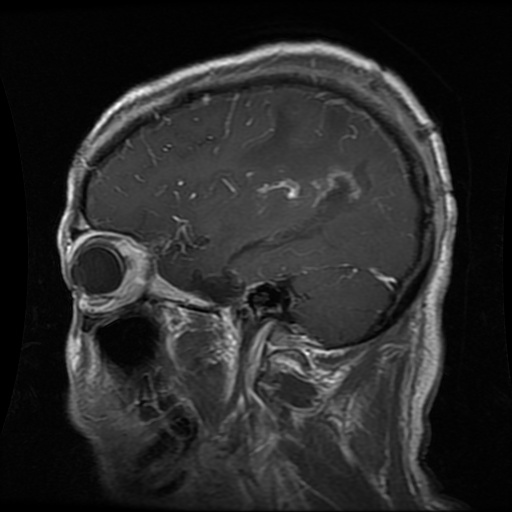glioma: (314, 172, 358, 221)
